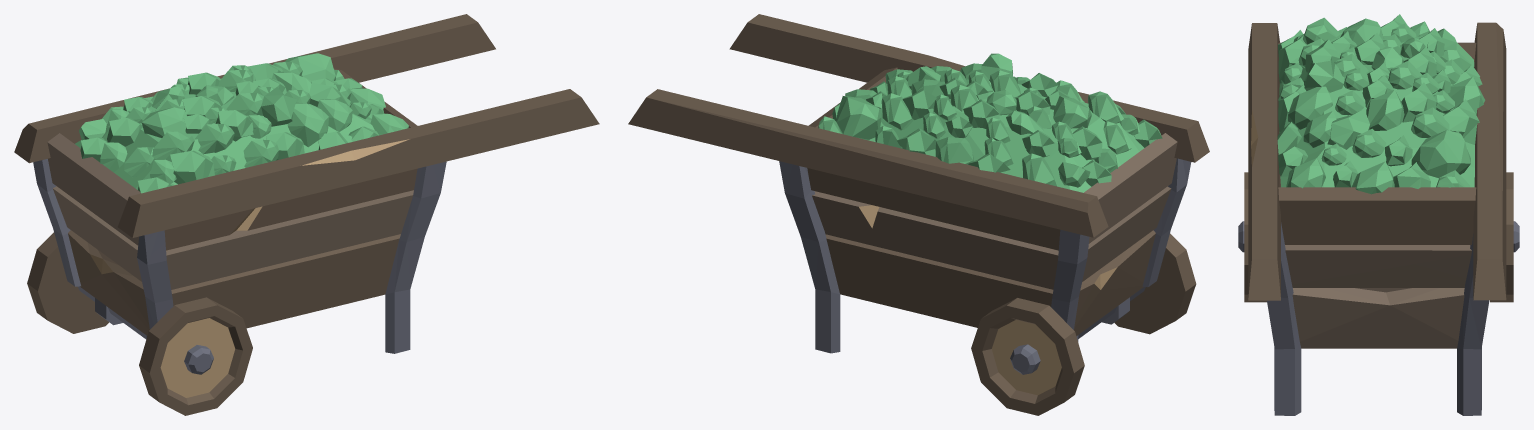
The model's file is _wheelbarrow_emerald.fbx.
3 views of the same model, side by side, from view 1: azimuth 30°, elevation 25°; view 2: azimuth 150°, elevation 25°; view 3: azimuth 270°, elevation 25° (orthographic). The views are drawn at different scales.
Parts seen in each view (by area): view 1: wheel_barrrow_emerald; view 2: wheel_barrrow_emerald; view 3: wheel_barrrow_emerald.
Boxes of the visible parts, x1,y1,x2,y2 form: wheel_barrrow_emerald: (14, 14, 599, 415); wheel_barrrow_emerald: (628, 14, 1209, 415); wheel_barrrow_emerald: (1238, 14, 1519, 415).
Bounding box in the file's own units: 187 × 103 × 88.67.
